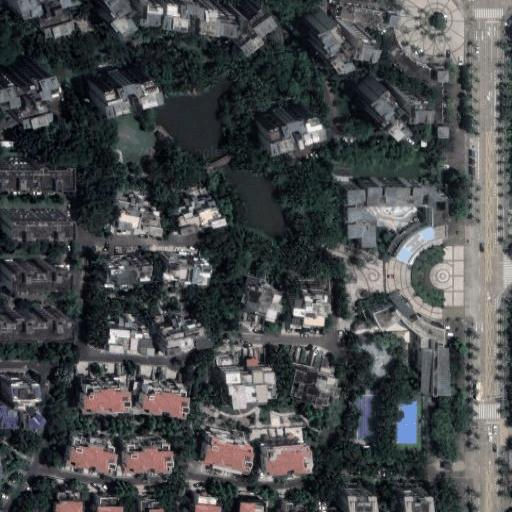building: (107, 0, 277, 38), (382, 288, 440, 392), (344, 178, 421, 238), (385, 189, 438, 257), (304, 2, 370, 52), (356, 71, 421, 120), (251, 101, 311, 140), (82, 65, 139, 103), (0, 51, 39, 104), (284, 363, 334, 400), (63, 431, 114, 467), (197, 428, 245, 464), (149, 307, 197, 342), (217, 364, 268, 395), (173, 190, 219, 223), (241, 285, 282, 321), (136, 376, 183, 407), (350, 382, 375, 438), (76, 375, 124, 403), (256, 437, 299, 467), (290, 283, 325, 319), (118, 436, 164, 463), (0, 154, 61, 174), (155, 250, 201, 276), (0, 306, 58, 325), (97, 313, 138, 338), (0, 207, 60, 224), (115, 199, 155, 224), (0, 258, 56, 275), (98, 252, 141, 273), (338, 484, 367, 508), (365, 298, 391, 324), (395, 485, 422, 509), (1, 371, 30, 390), (53, 492, 79, 512), (23, 0, 57, 14), (196, 497, 219, 512), (99, 498, 120, 512), (238, 502, 265, 512), (356, 508, 420, 512), (283, 502, 304, 512), (138, 503, 158, 512), (216, 359, 231, 367), (245, 358, 256, 365), (337, 508, 356, 512)
